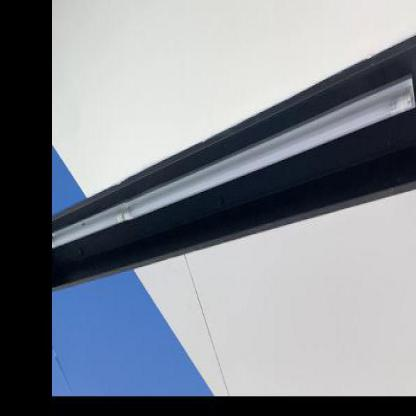light_off: (51, 47, 416, 303)
